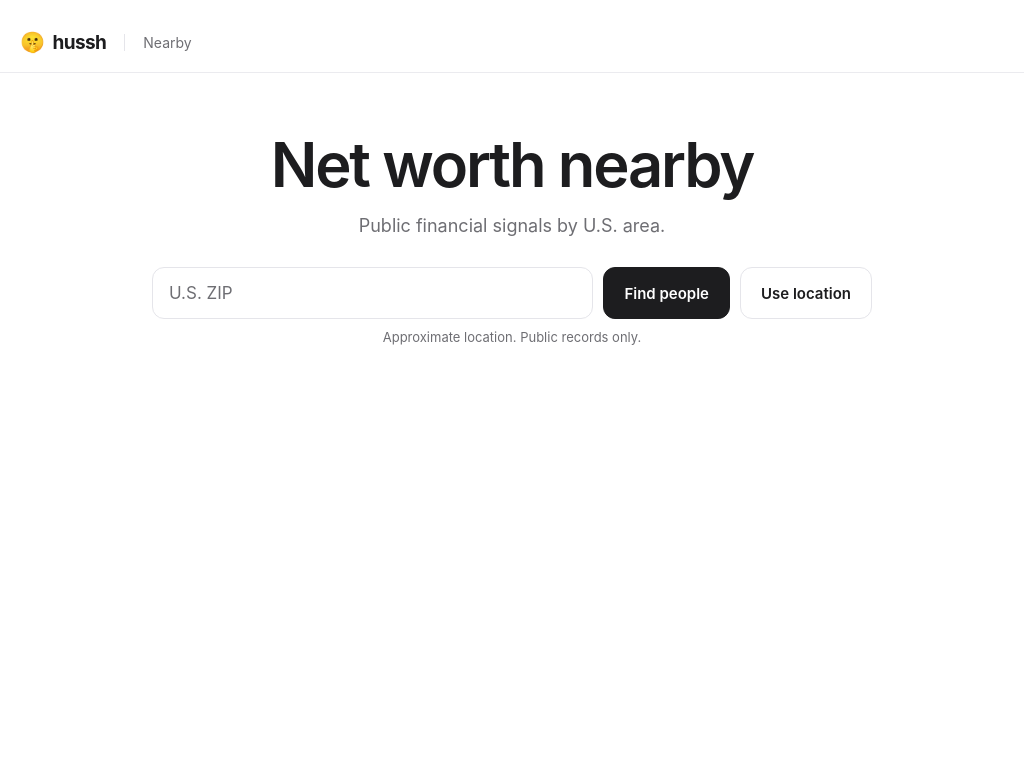
Test case: NearbyPeople v4 › keeps result details public and concise
Type "32301" into the field named "U.S. ZIP code".
click(373, 294); type("32301")  # box [152,268,593,320]
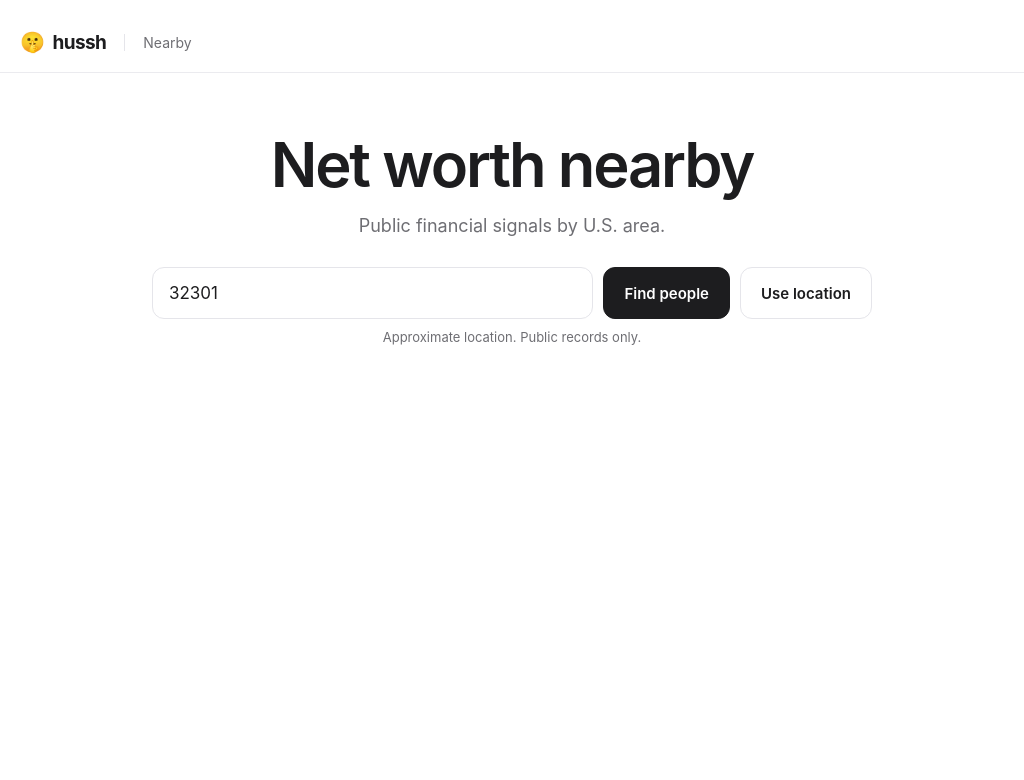
Click the button "Find people".
click(667, 294)  # box [603,268,730,320]
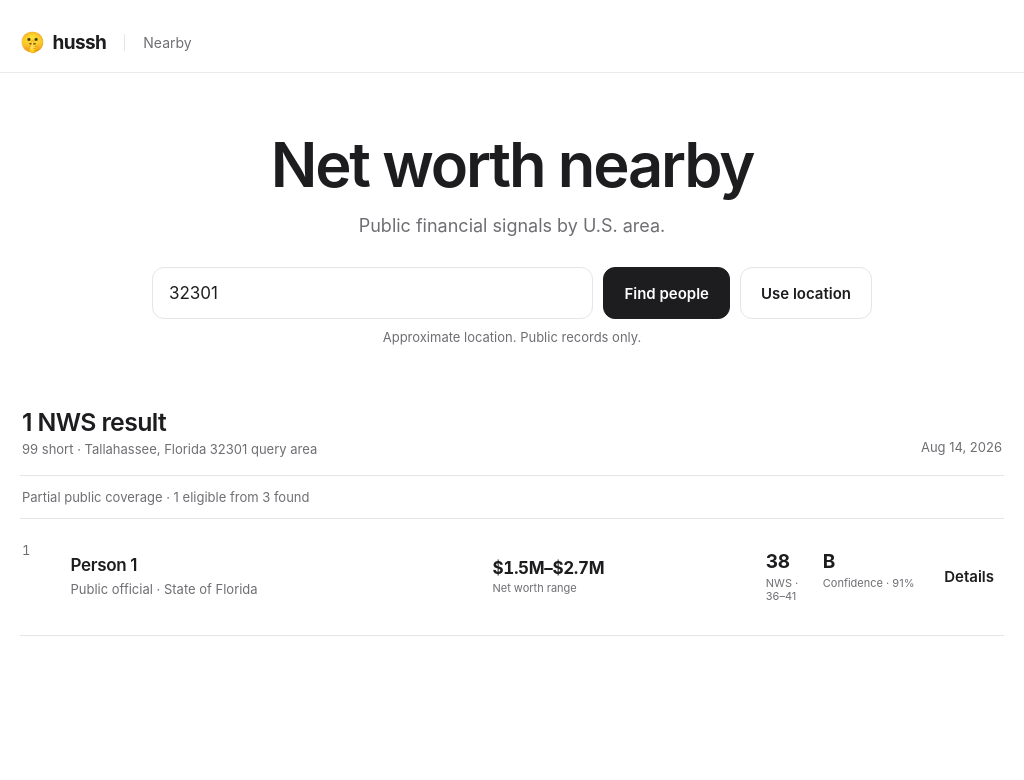
Check: the heading "1 NWS result" is shown, box [22,407,166,437]
Click the button "Details".
click(969, 577)  # box [936,557,1002,597]
(page scrolled)
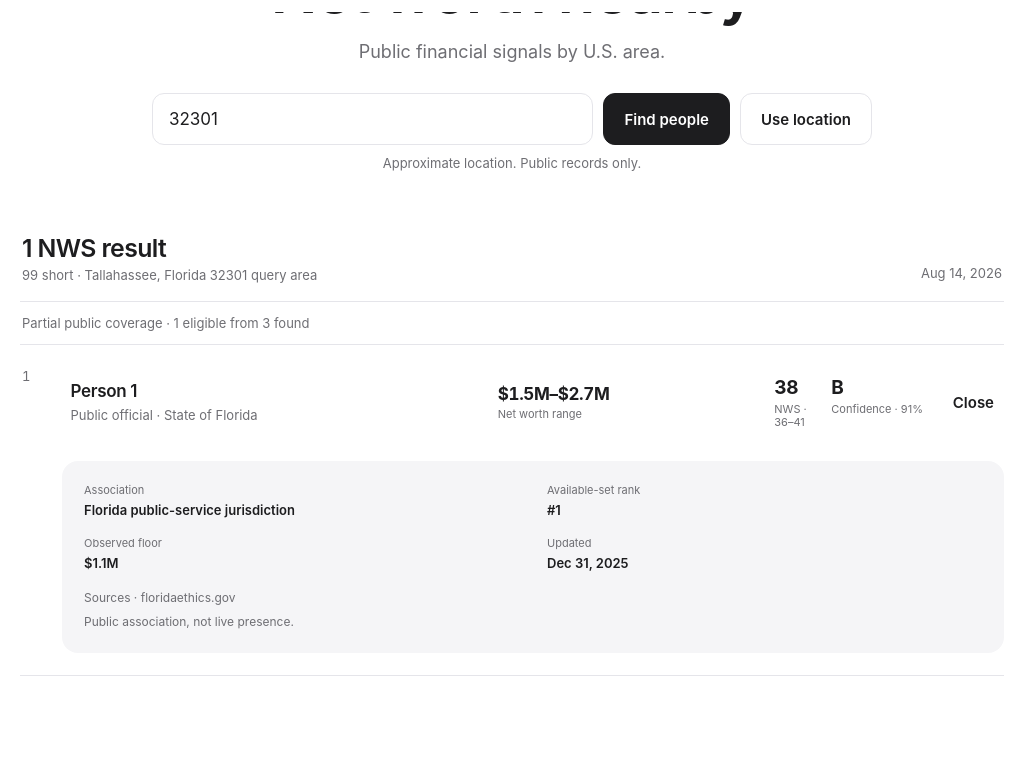
Check: the text "Available-set rank" is shown, box [547,483,640,497]
Check: the text "Sources · floridaethics.gov" is shown, box [84,590,236,605]
Check: the text "Public association, not live presence." is shown, box [84,614,294,629]
